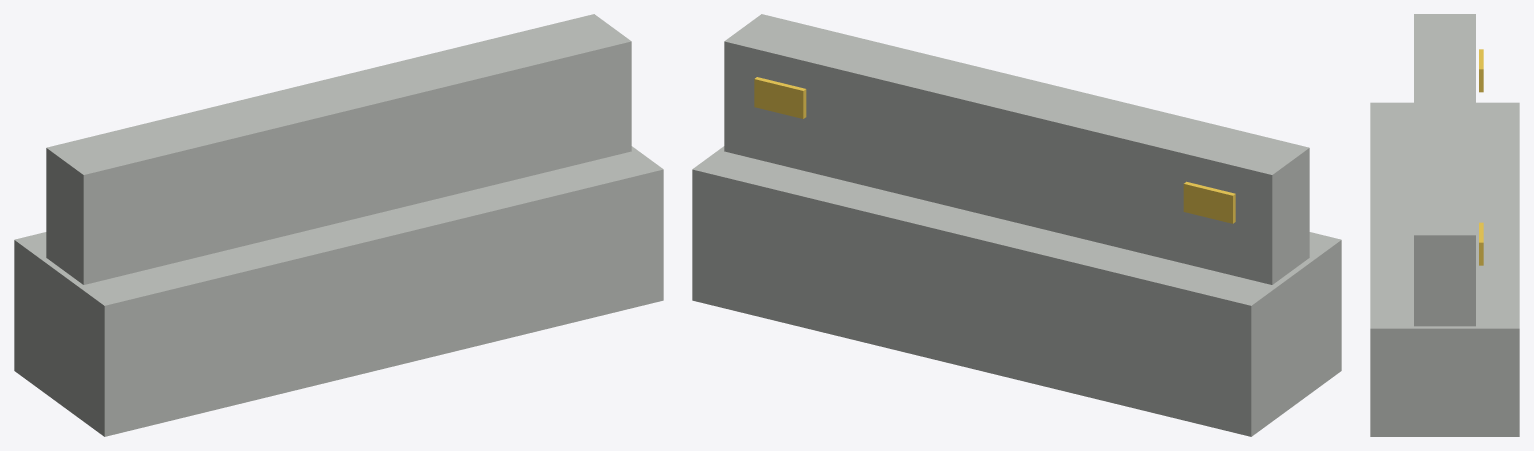
Rendered from jersey_barrier.gltf.
3 renders of one model, left to right at view 1: azimuth 30°, elevation 25°; view 2: azimuth 150°, elevation 25°; view 3: azimuth 270°, elevation 25°, orthographic. The views are drawn at different scales.
Parts seen in each view (by area): view 1: Base, Top; view 2: Base, Top, Marker_-0.96, Marker_0.96; view 3: Base, Top, Marker_-0.96, Marker_0.96.
Part boxes in pixels (x1=…): Base: x1=14, y1=146, x2=663, y2=436; Top: x1=46, y1=14, x2=631, y2=284; Base: x1=692, y1=146, x2=1341, y2=436; Top: x1=724, y1=14, x2=1309, y2=284; Marker_-0.96: x1=1183, y1=181, x2=1235, y2=223; Marker_0.96: x1=754, y1=77, x2=806, y2=118; Base: x1=1370, y1=102, x2=1519, y2=436; Top: x1=1414, y1=14, x2=1475, y2=326; Marker_-0.96: x1=1479, y1=49, x2=1483, y2=92; Marker_0.96: x1=1479, y1=222, x2=1483, y2=265.
Size of the model in its own units: 2.5 by 1.03 by 0.7.
